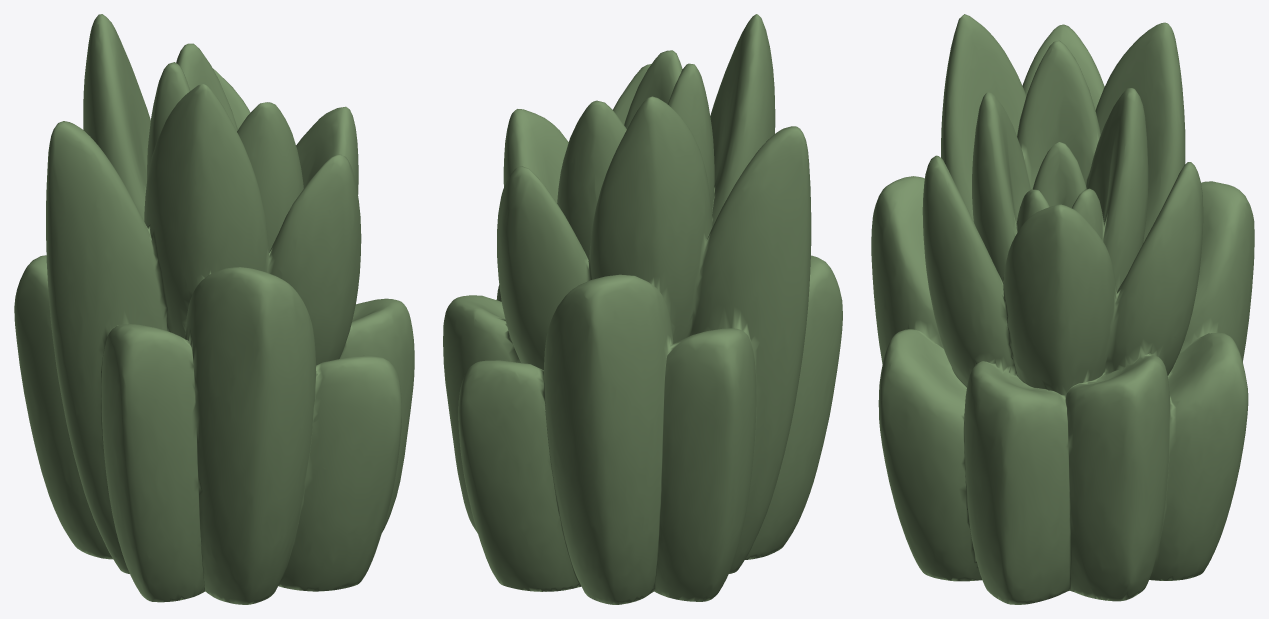
Rendered from succulent-rosette.glb.
The picture shows the model from 3 angles, left to right: view 1: azimuth 30°, elevation 25°; view 2: azimuth 150°, elevation 25°; view 3: azimuth 270°, elevation 25°; orthographic projection. The views are drawn at different scales.
Visible parts, largest first — view 1: tripo_printable_source; view 2: tripo_printable_source; view 3: tripo_printable_source.
Part boxes in pixels (x1,y1,x2,y2): tripo_printable_source: [14, 14, 414, 604]; tripo_printable_source: [443, 14, 842, 604]; tripo_printable_source: [871, 14, 1254, 604].
Size of the model in its own units: 68.06 by 100 by 70.
